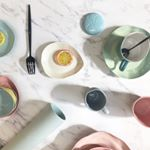cups: (115, 29, 150, 74), (81, 86, 113, 118)
